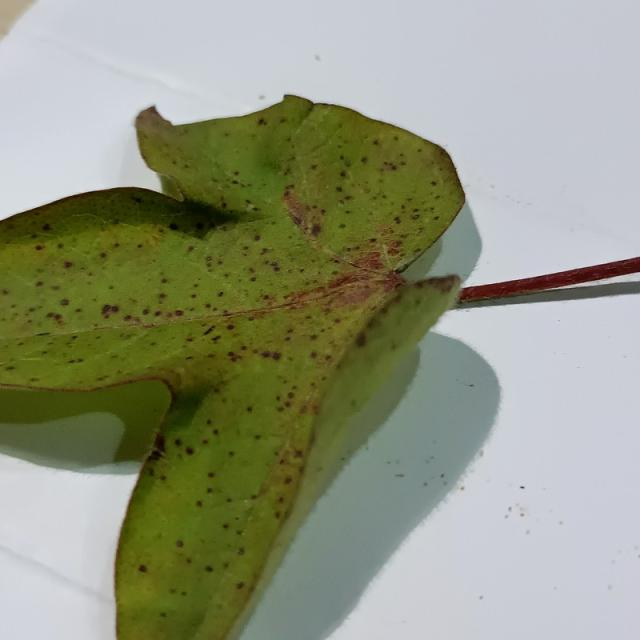Bacterial_Blight: (324, 278, 387, 309), (346, 249, 390, 274), (91, 298, 119, 322), (496, 190, 530, 206), (152, 432, 167, 455), (383, 238, 403, 255), (259, 349, 281, 361), (147, 448, 162, 462), (355, 332, 368, 348), (45, 312, 62, 323), (298, 405, 312, 416), (382, 161, 397, 171), (310, 223, 322, 235), (202, 325, 215, 336), (227, 352, 241, 362), (245, 203, 258, 211), (167, 223, 179, 231), (261, 294, 273, 301), (138, 564, 147, 573), (294, 449, 303, 458), (63, 261, 73, 269), (60, 299, 70, 307), (174, 309, 184, 317), (260, 247, 270, 255), (50, 284, 61, 291), (42, 223, 51, 231), (185, 447, 194, 455), (158, 293, 167, 301), (270, 261, 279, 269), (226, 323, 235, 331), (309, 351, 318, 359), (237, 546, 245, 555), (257, 118, 266, 126), (176, 540, 184, 548), (393, 216, 401, 224), (339, 170, 347, 178), (287, 391, 295, 399), (205, 565, 213, 573), (284, 476, 292, 484), (236, 582, 244, 590), (35, 332, 51, 336), (141, 308, 150, 315), (153, 310, 162, 317), (34, 245, 44, 251), (335, 186, 343, 193), (99, 252, 107, 259), (343, 160, 351, 167), (207, 471, 215, 478), (309, 334, 317, 341), (212, 428, 219, 436), (283, 401, 291, 408), (1, 289, 9, 296), (159, 612, 167, 619), (343, 195, 352, 201), (411, 214, 420, 220), (35, 281, 44, 287), (5, 366, 15, 371), (196, 500, 203, 507), (254, 234, 261, 241), (430, 180, 437, 187), (206, 487, 213, 494), (314, 54, 321, 61), (338, 223, 346, 229), (395, 473, 404, 478), (217, 291, 224, 297), (372, 139, 379, 145), (205, 256, 212, 262), (222, 523, 229, 529), (161, 278, 168, 284), (190, 293, 197, 299), (258, 94, 265, 100), (608, 584, 613, 591), (440, 473, 445, 479), (423, 481, 428, 487), (525, 529, 530, 535), (611, 559, 616, 565), (520, 512, 525, 517), (460, 486, 465, 491), (478, 595, 483, 600), (504, 514, 509, 519), (558, 520, 563, 525), (508, 506, 512, 512), (519, 486, 525, 489), (638, 554, 640, 560)
Cotton: (0, 96, 463, 639)
